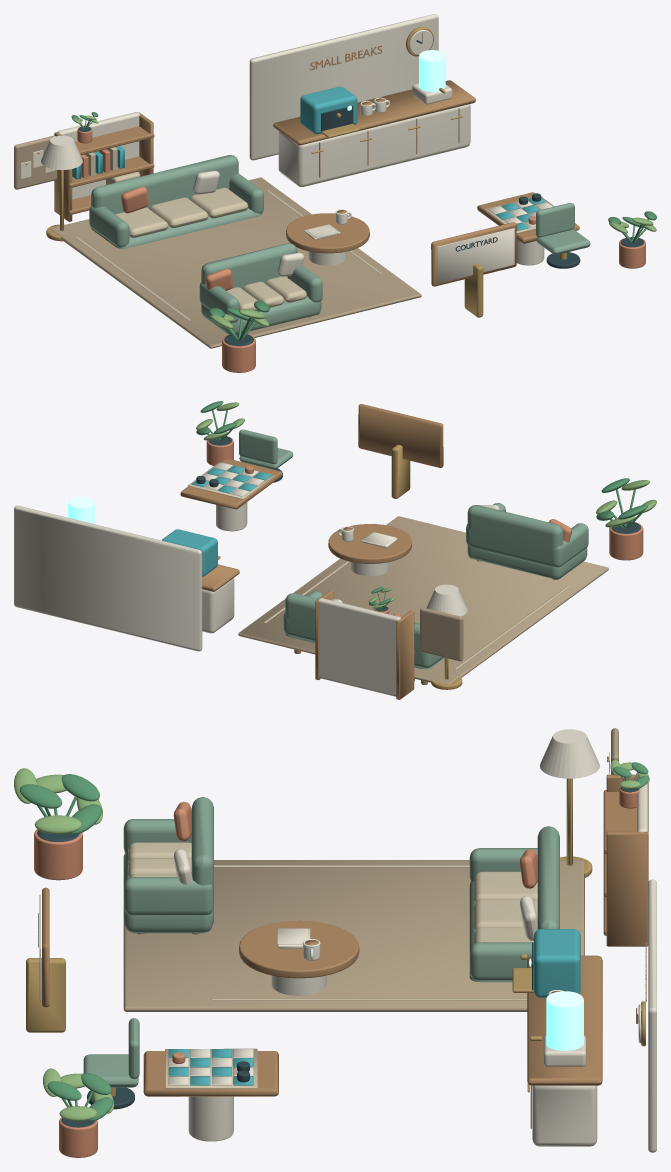
Rendered from props.glb.
The picture shows the model from 3 angles, top to bottom: view 1: azimuth 30°, elevation 25°; view 2: azimuth 150°, elevation 25°; view 3: azimuth 270°, elevation 25°; orthographic projection. The views are drawn at different scales.
Parts seen in each view (by area): view 1: Lounge / scalloped rug.001, Cafe / splash panel.001, Cafe / cabinet.001, Lounge / sofa / back.001, Cafe / walnut counter.001, Directory / face.001, Lounge / low table.001, Lounge / loveseat / back.001, Coffee / enamel body.001, Lobby / library / back.001, Lounge / loveseat / base.001, Lounge / sofa / base.001 (+27 smaller); view 2: Cafe / splash panel.001, Lounge / scalloped rug.001, Lobby / library / back.001, Lounge / loveseat / back.001, Directory / frame.001, Lounge / low table.001, Notice / cork.001, Lounge / sofa / back.001, Lobby / library / side.002, Lounge / loveseat / base.001, Cafe / cabinet.001, Game / table.001 (+13 smaller); view 3: Lounge / scalloped rug.001, Cafe / walnut counter.001, Lobby / library / side.003, Lounge / low table.001, Cafe / cabinet.001, Lounge / loveseat / arm.003, Coffee / enamel body.001, Game / table.001, Directory / stand.001, Cafe / splash panel.001, Lounge / sofa / back.001, Lounge / reading lamp / shade.001 (+28 smaller).
Part boxes in pixels (x1,y1,x2,y2): Lounge / scalloped rug.001: [51, 177, 421, 348]; Cafe / splash panel.001: [249, 14, 438, 160]; Cafe / cabinet.001: [278, 104, 470, 187]; Lounge / sofa / back.001: [91, 155, 238, 214]; Cafe / walnut counter.001: [273, 80, 475, 145]; Directory / face.001: [437, 228, 514, 283]; Lounge / low table.001: [286, 213, 369, 253]; Lounge / loveseat / back.001: [201, 243, 297, 289]; Coffee / enamel body.001: [300, 86, 357, 134]; Lobby / library / back.001: [57, 112, 140, 199]; Lounge / loveseat / base.001: [201, 296, 321, 334]; Lounge / sofa / base.001: [91, 208, 262, 248]; Cafe / splash panel.001: [14, 505, 202, 651]; Lounge / scalloped rug.001: [238, 516, 608, 684]; Lobby / library / back.001: [318, 598, 400, 696]; Lounge / loveseat / back.001: [467, 505, 563, 566]; Directory / frame.001: [358, 404, 443, 467]; Lounge / low table.001: [328, 524, 411, 563]; Notice / cork.001: [420, 607, 463, 661]; Lounge / sofa / back.001: [285, 593, 422, 666]; Lobby / library / side.002: [396, 610, 414, 699]; Lounge / loveseat / base.001: [467, 545, 587, 579]; Cafe / cabinet.001: [202, 578, 234, 633]; Game / table.001: [180, 458, 282, 509]; Lounge / scalloped rug.001: [123, 860, 584, 1011]; Cafe / walnut counter.001: [527, 955, 602, 1085]; Lobby / library / side.003: [606, 831, 648, 946]; Lounge / low table.001: [239, 920, 359, 978]; Cafe / cabinet.001: [532, 1085, 597, 1146]; Lounge / loveseat / arm.003: [123, 877, 213, 915]; Coffee / enamel body.001: [534, 929, 580, 997]; Game / table.001: [143, 1051, 278, 1096]; Directory / stand.001: [26, 958, 65, 1032]; Cafe / splash panel.001: [648, 879, 656, 1152]; Lounge / sofa / back.001: [537, 826, 559, 929]; Lounge / reading lamp / shade.001: [540, 729, 599, 778].
Size of the model in its own units: 14.9 by 3.7 by 12.82.
